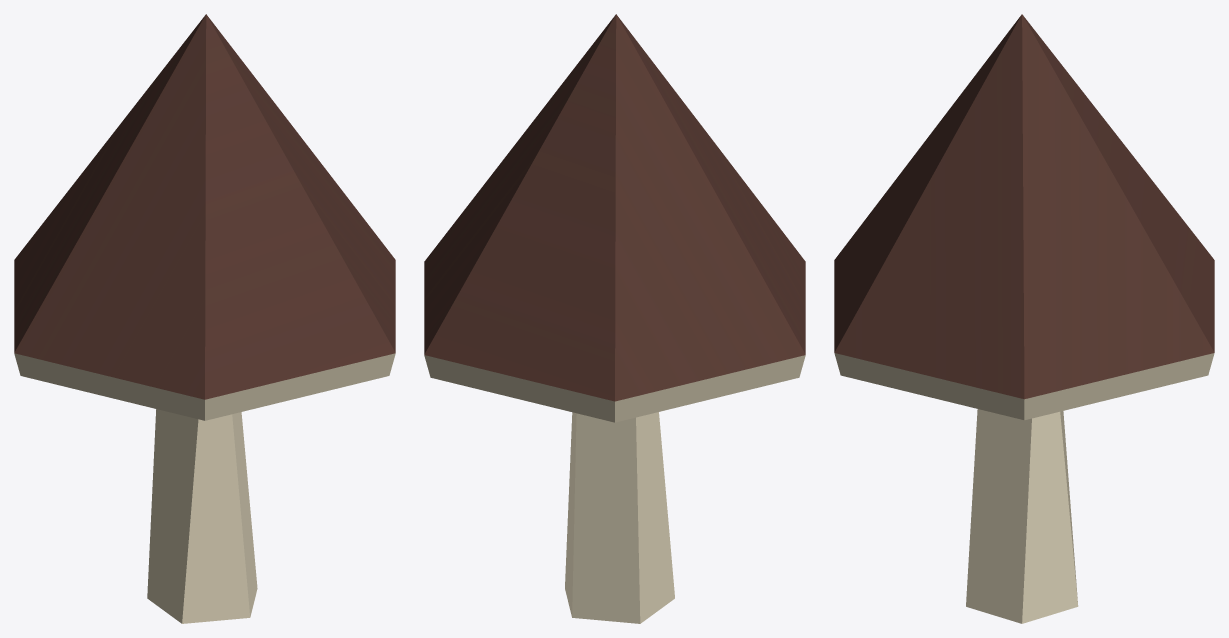
File: Mushroom_2A.fbx
The picture shows the model from 3 angles, left to right: view 1: azimuth 30°, elevation 25°; view 2: azimuth 150°, elevation 25°; view 3: azimuth 270°, elevation 25°; orthographic projection.
Parts seen in each view (by area): view 1: polySurface10610; view 2: polySurface10610; view 3: polySurface10610.
Boxes of the visible parts, x1,y1,x2,y2 form: polySurface10610: (14,14,395,623); polySurface10610: (424,14,805,623); polySurface10610: (834,14,1214,623).
Size of the model in its own units: 29.73 by 43.71 by 25.75.
